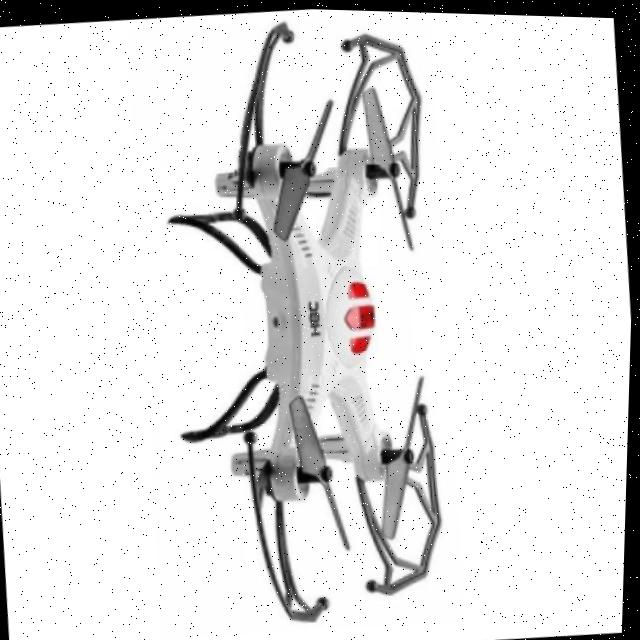drones: (140, 4, 504, 640)
